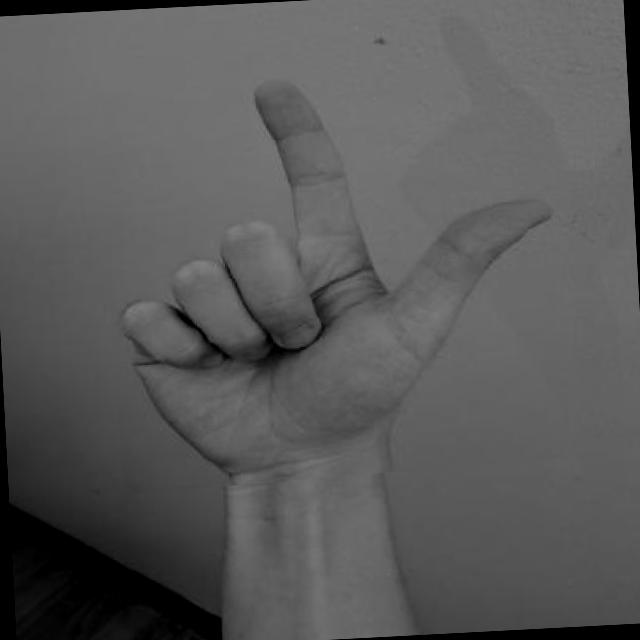L: (93, 62, 572, 496)
